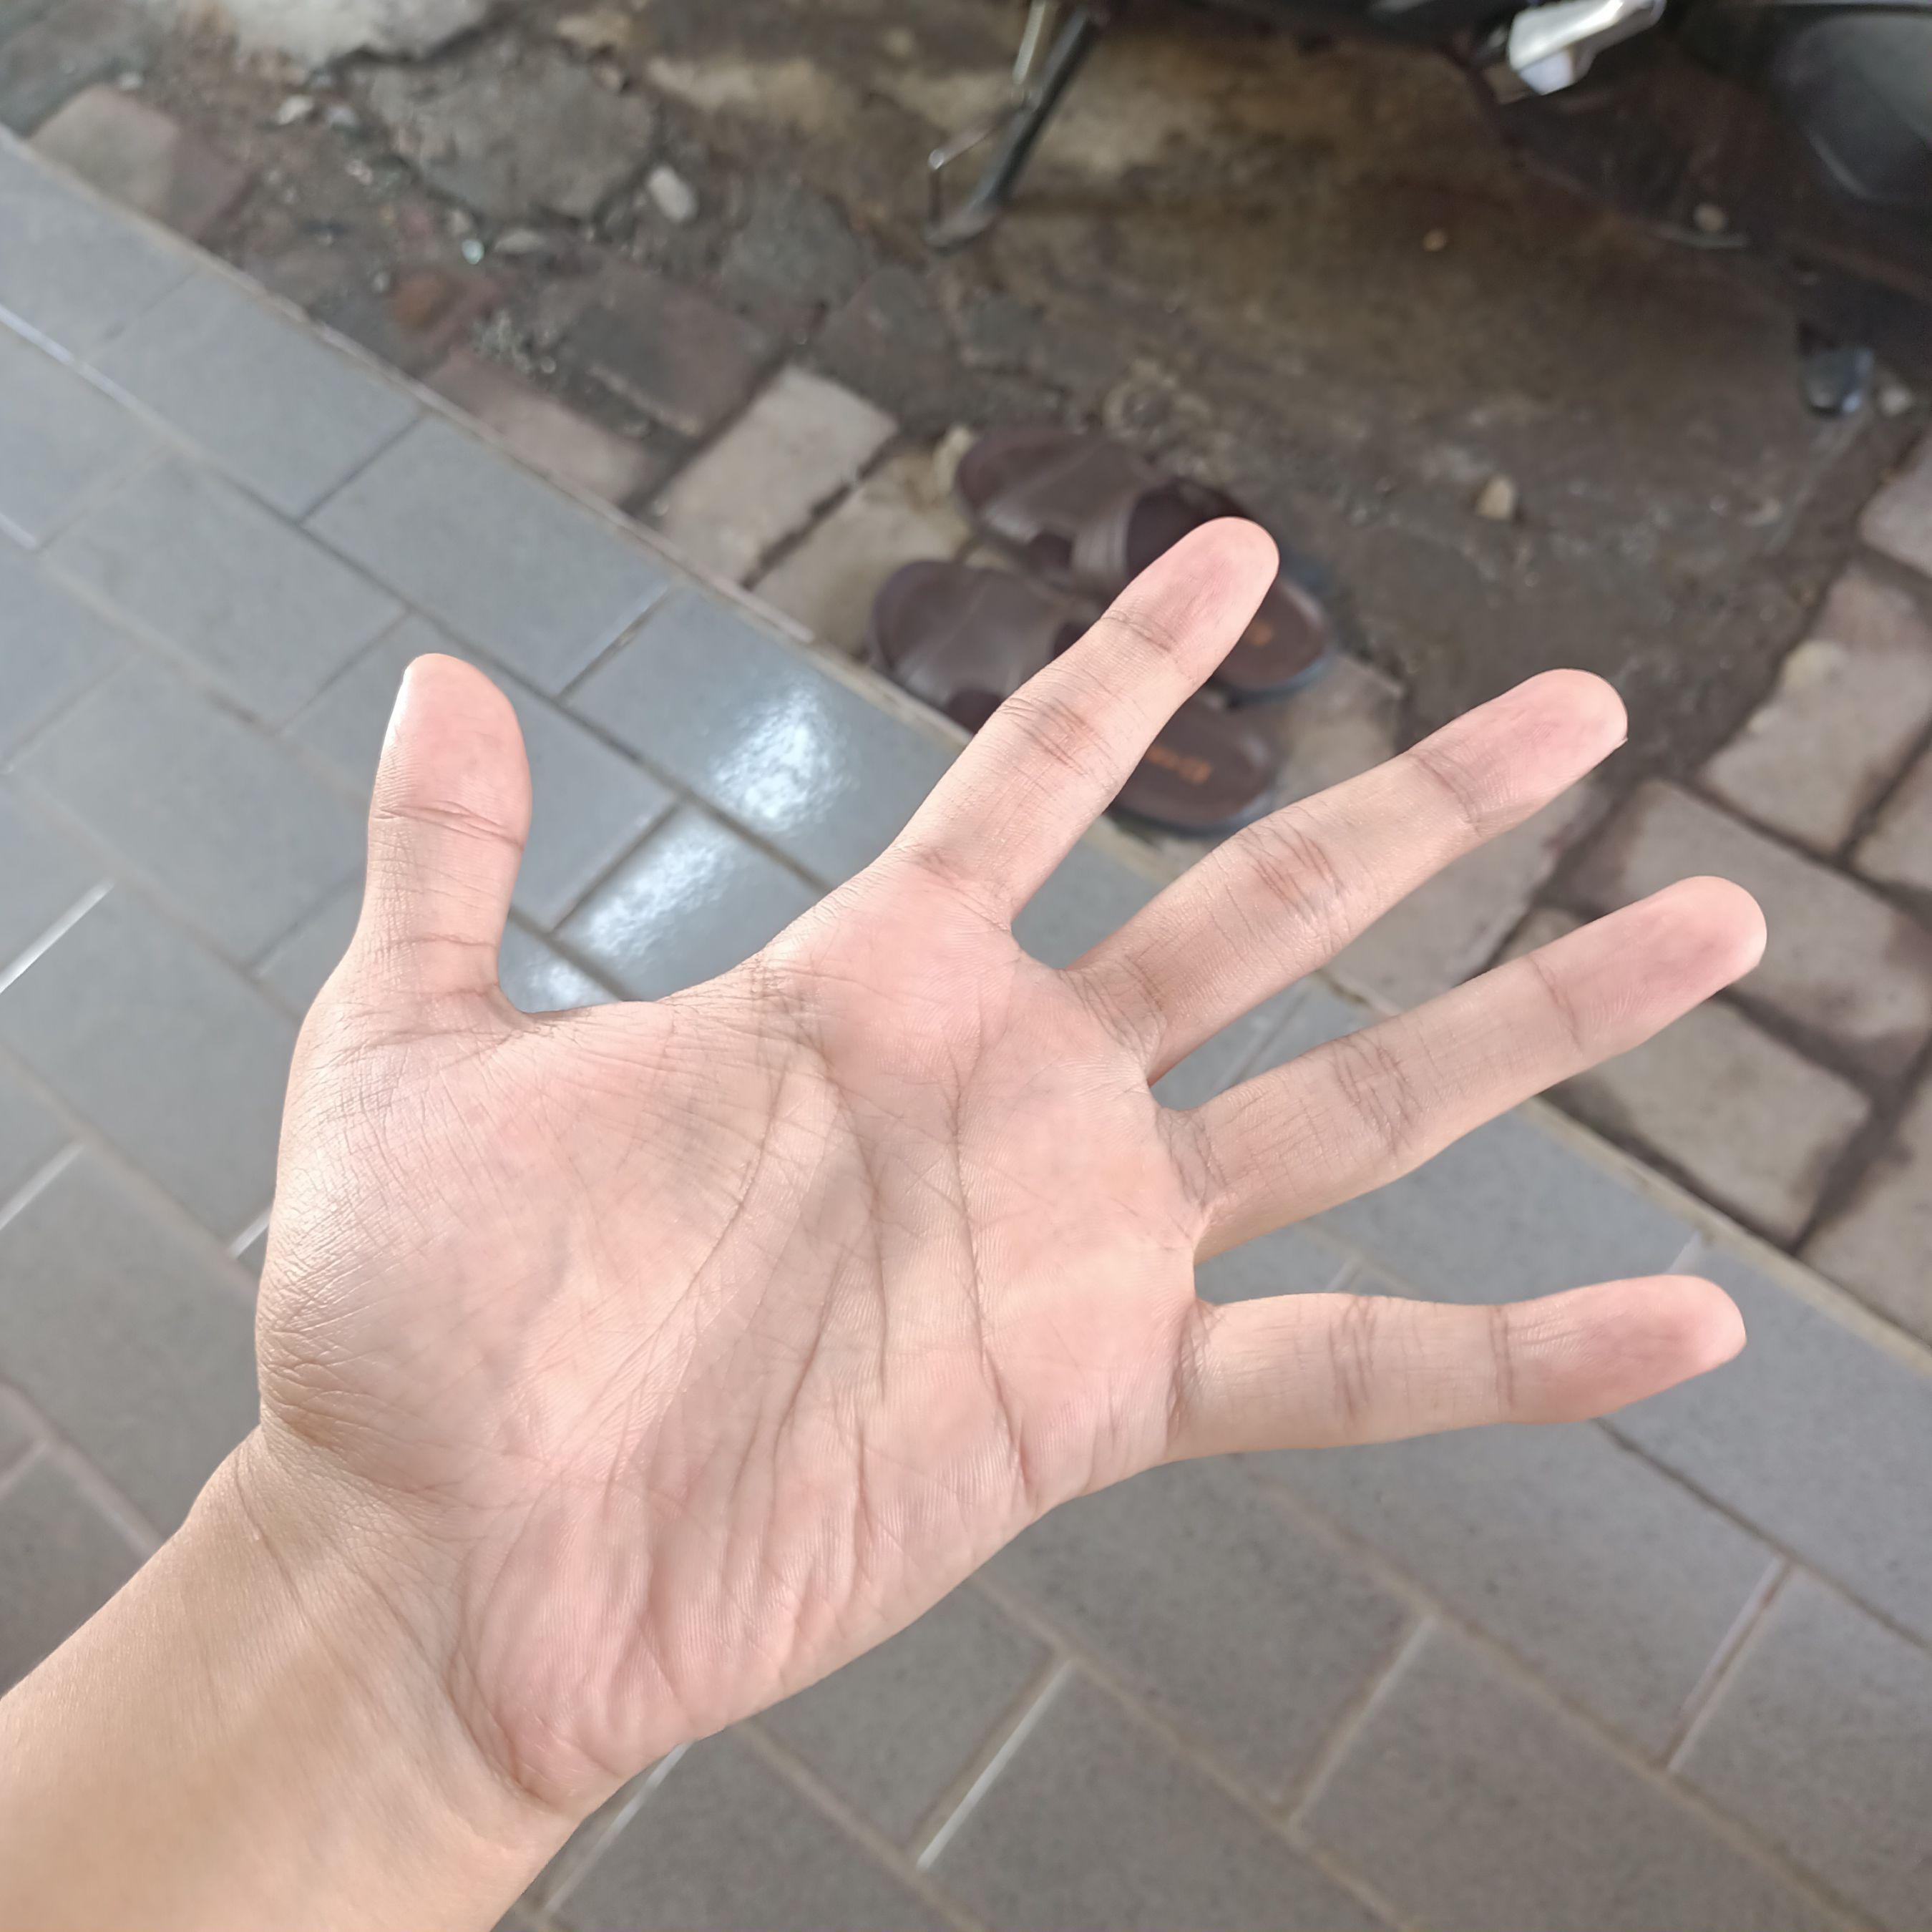paper: (212, 495, 1780, 1856)
